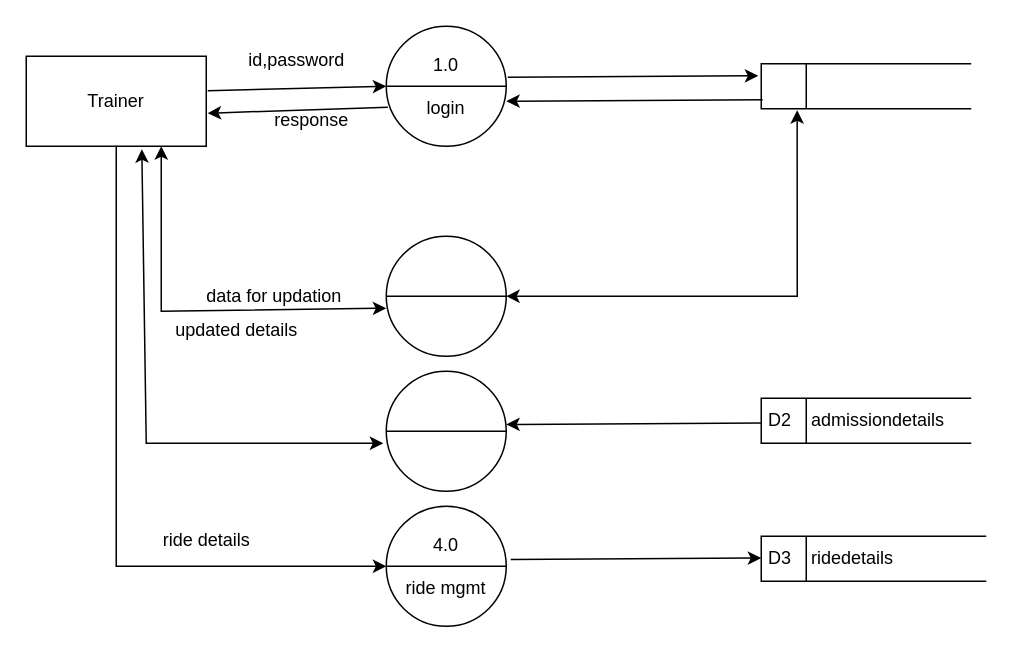
This 1013x653 diagram has some shape labels left out. The box of each missing label's shape, as (x1, y1, x2, y2) in pixels:
2.0 profile mgmt: (385, 235, 506, 356)
3.0 trainee mgmt: (385, 370, 506, 491)
D1 trainer_details: (760, 62, 971, 109)
